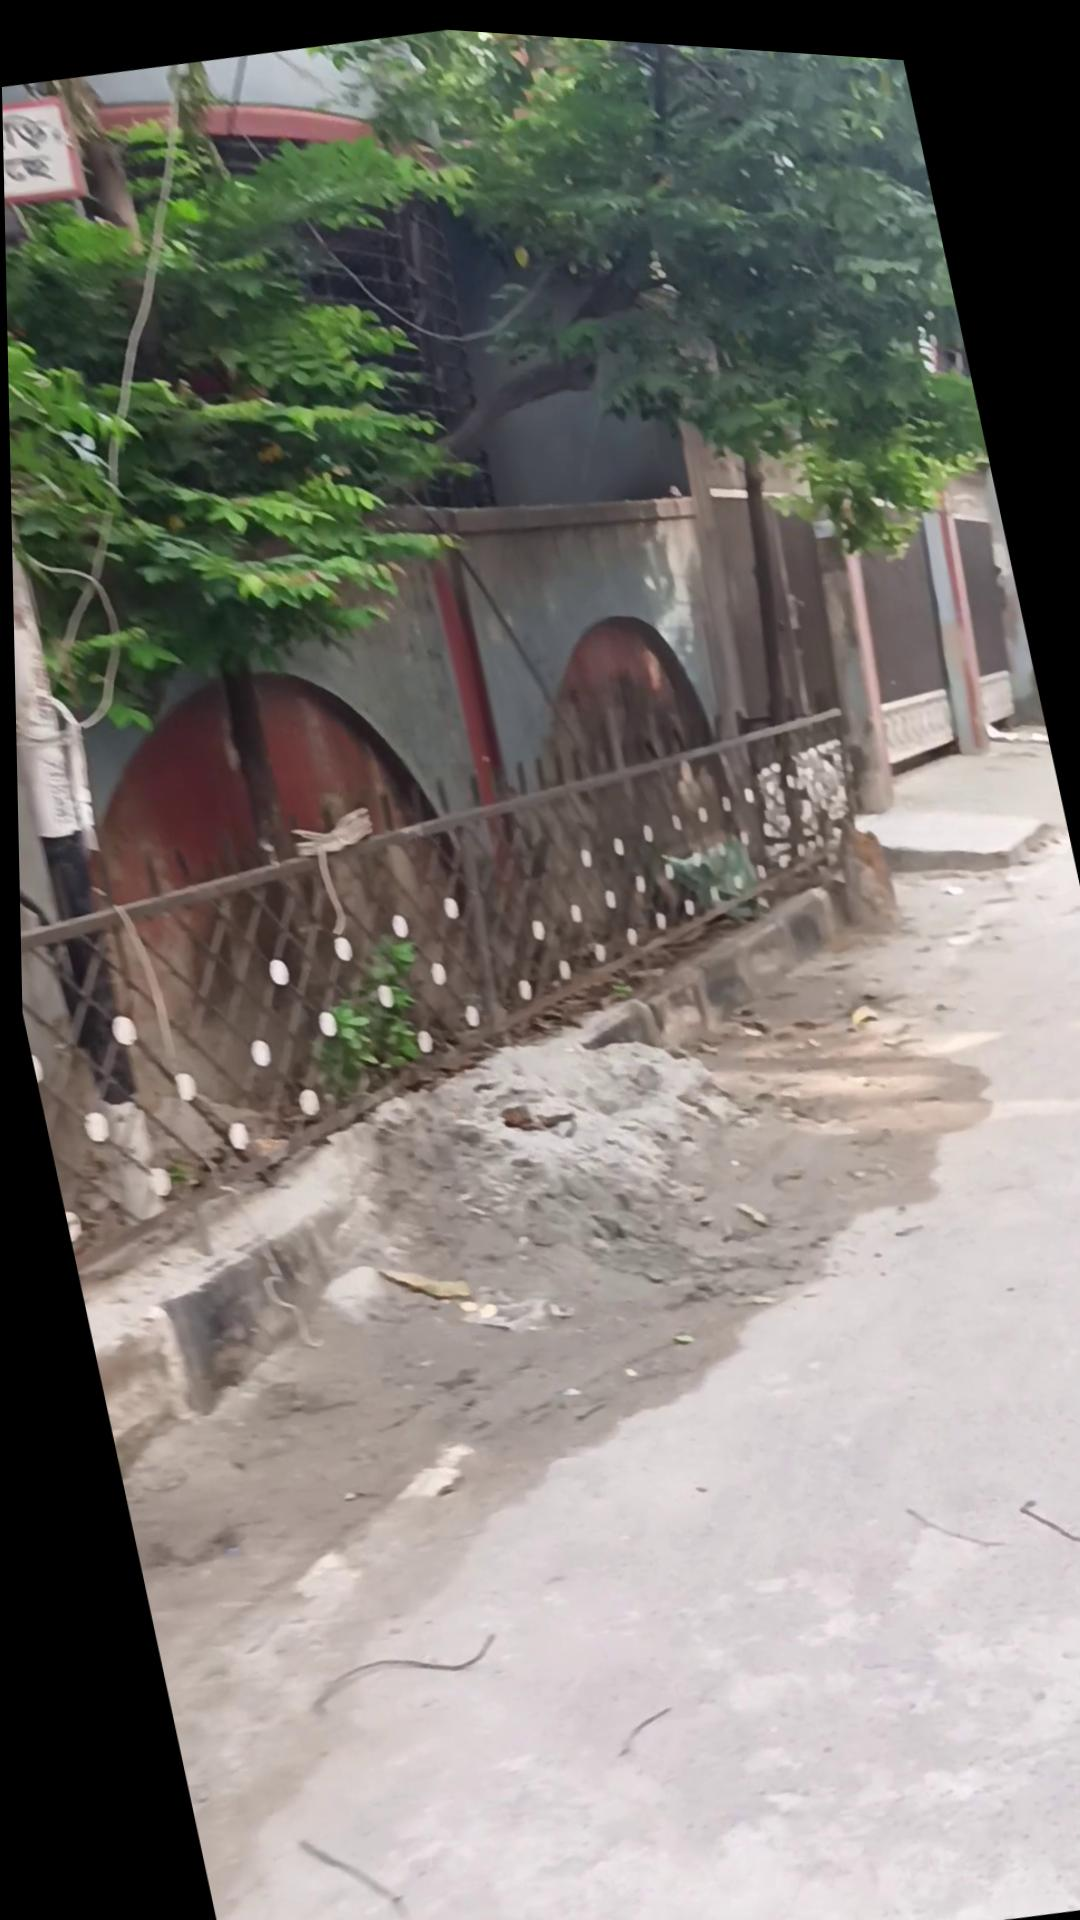Broken-road: (13, 787, 964, 1510), (864, 645, 1026, 770)
Car: (11, 633, 938, 1304)
Garbage-bin: (1, 87, 297, 1229)
Light-pole: (298, 16, 1005, 649)
